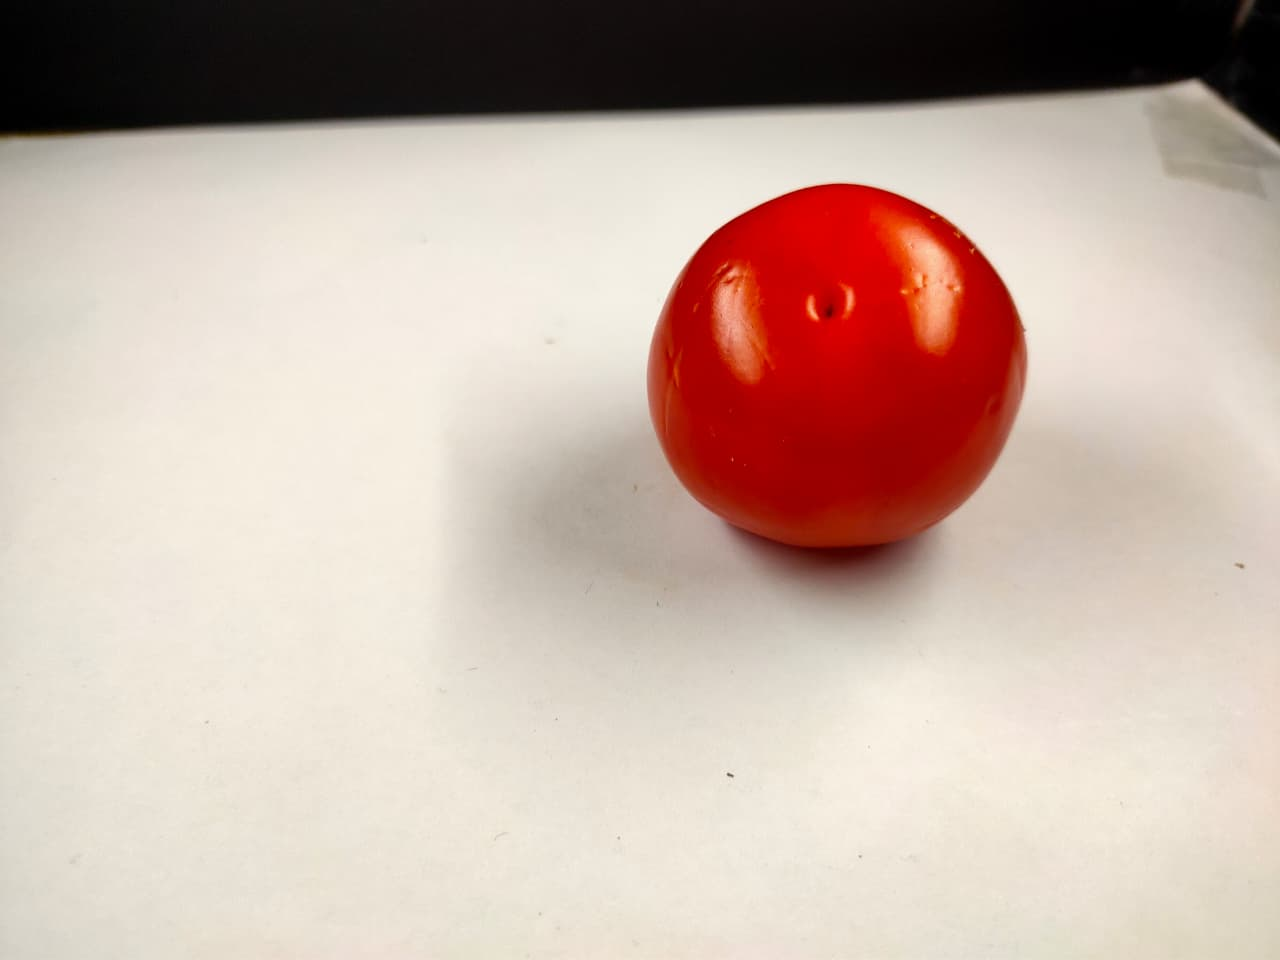ripe: (623, 144, 1037, 560)
